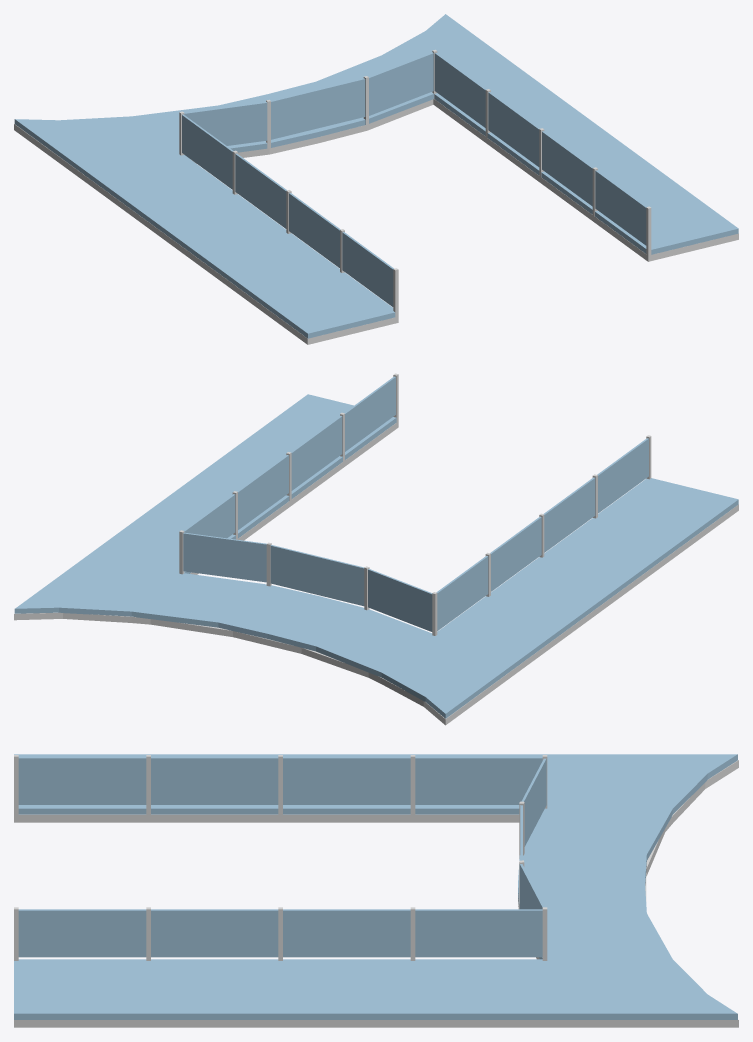
Rendered from Bridge.fbx.
3 views of the same model, one above another, from view 1: azimuth 30°, elevation 25°; view 2: azimuth 150°, elevation 25°; view 3: azimuth 270°, elevation 25° (orthographic). The views are drawn at different scales.
Visible parts, largest first — view 1: Cube.156, Bridge_Glass, Bridge_Skeleton, Bridge_Posts; view 2: Cube.156, Bridge_Glass, Bridge_Skeleton, Bridge_Posts; view 3: Cube.156, Bridge_Glass, Bridge_Skeleton, Bridge_Posts.
Boxes of the visible parts, left/top/right/bottom form: Cube.156: left=14, top=14, right=738, bottom=338; Bridge_Glass: left=182, top=52, right=646, bottom=306; Bridge_Skeleton: left=14, top=99, right=738, bottom=344; Bridge_Posts: left=179, top=49, right=651, bottom=317; Cube.156: left=14, top=394, right=738, bottom=718; Bridge_Glass: left=183, top=376, right=648, bottom=631; Bridge_Skeleton: left=14, top=421, right=738, bottom=725; Bridge_Posts: left=179, top=373, right=651, bottom=635; Cube.156: left=14, top=754, right=737, bottom=1019; Bridge_Glass: left=18, top=757, right=546, bottom=957; Bridge_Skeleton: left=14, top=760, right=738, bottom=1027; Bridge_Posts: left=14, top=755, right=547, bottom=960.
Bounding box in the file's own units: 879 × 104 × 1036.
